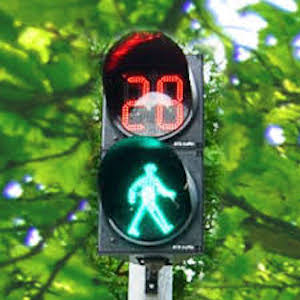green: (122, 155, 185, 238)
